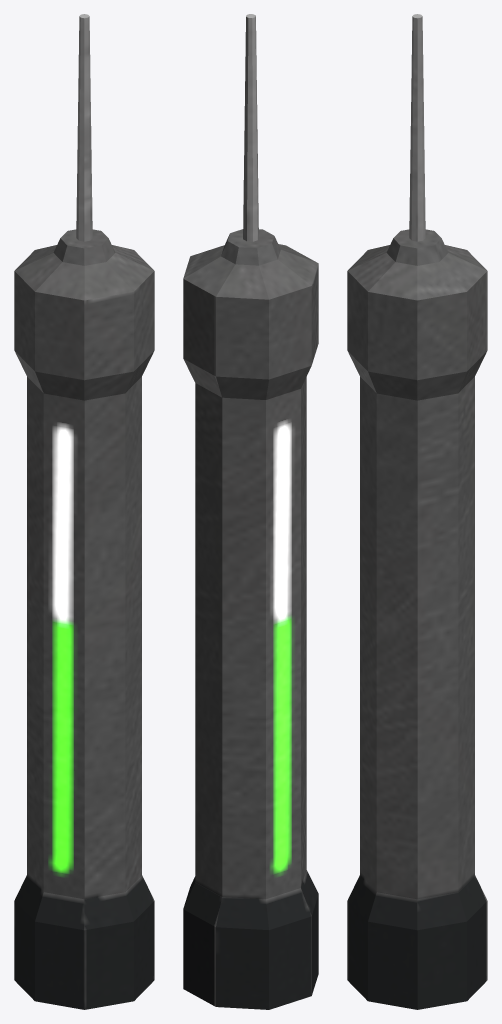
Rendered from LessHealth.fbx.
The picture shows the model from 3 angles, left to right: view 1: azimuth 90°, elevation 25°; view 2: azimuth 150°, elevation 25°; view 3: azimuth 270°, elevation 25°; orthographic projection.
Visible parts, largest first — view 1: Less_Health; view 2: Less_Health; view 3: Less_Health.
Part boxes in pixels (left/top/right/bottom): Less_Health: left=14, top=14, right=154, bottom=1009; Less_Health: left=183, top=14, right=318, bottom=1009; Less_Health: left=347, top=14, right=487, bottom=1009.
Size of the model in its own units: 13.85 by 105 by 13.85.
